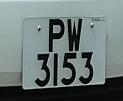1: (50, 52, 62, 88)
3: (32, 51, 53, 89), (78, 51, 98, 85)
5: (59, 52, 81, 86)
P: (45, 14, 67, 56)
W: (66, 15, 85, 55)
